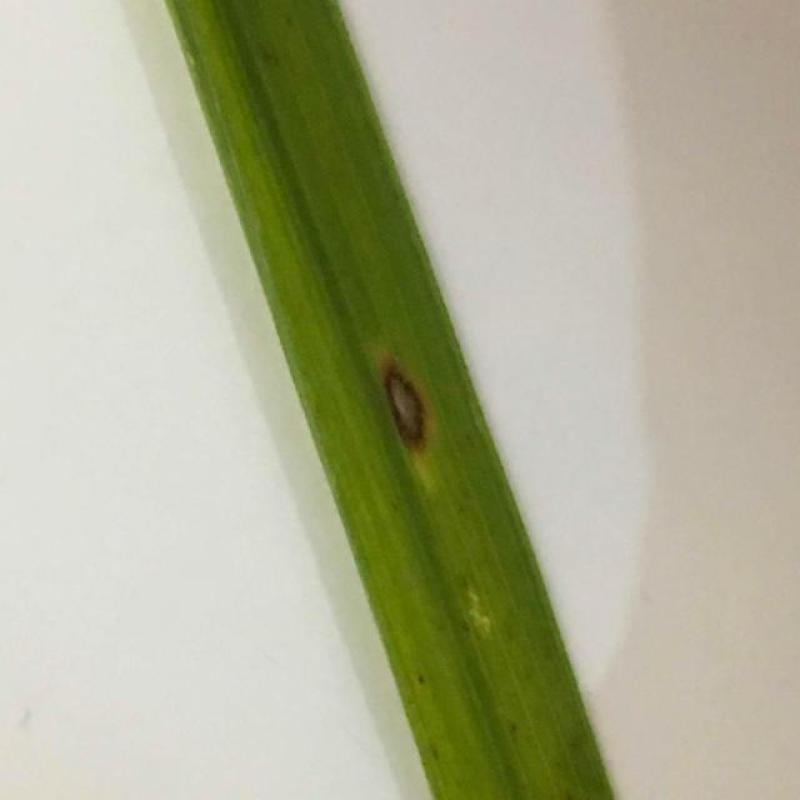Leaf_Blast: (328, 255, 508, 549)
